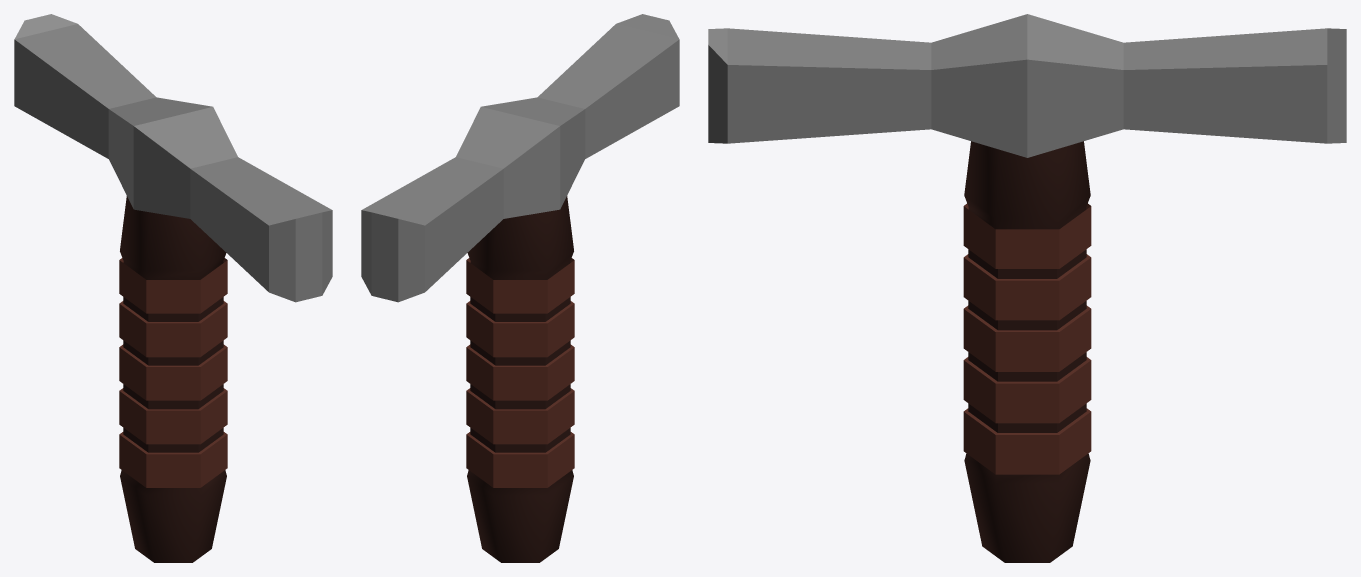
File: Sword.004.glb
3 renders of one model, left to right at view 1: azimuth 30°, elevation 25°; view 2: azimuth 150°, elevation 25°; view 3: azimuth 270°, elevation 25°, orthographic. The views are drawn at different scales.
Visible parts, largest first — view 1: Sword.004; view 2: Sword.004; view 3: Sword.004.
Boxes of the visible parts, <box> form: Sword.004: <box>14,14,332,562</box>; Sword.004: <box>361,14,679,562</box>; Sword.004: <box>708,14,1346,562</box>.
Bounding box in the file's own units: 0.0346 × 0.1761 × 0.2.
